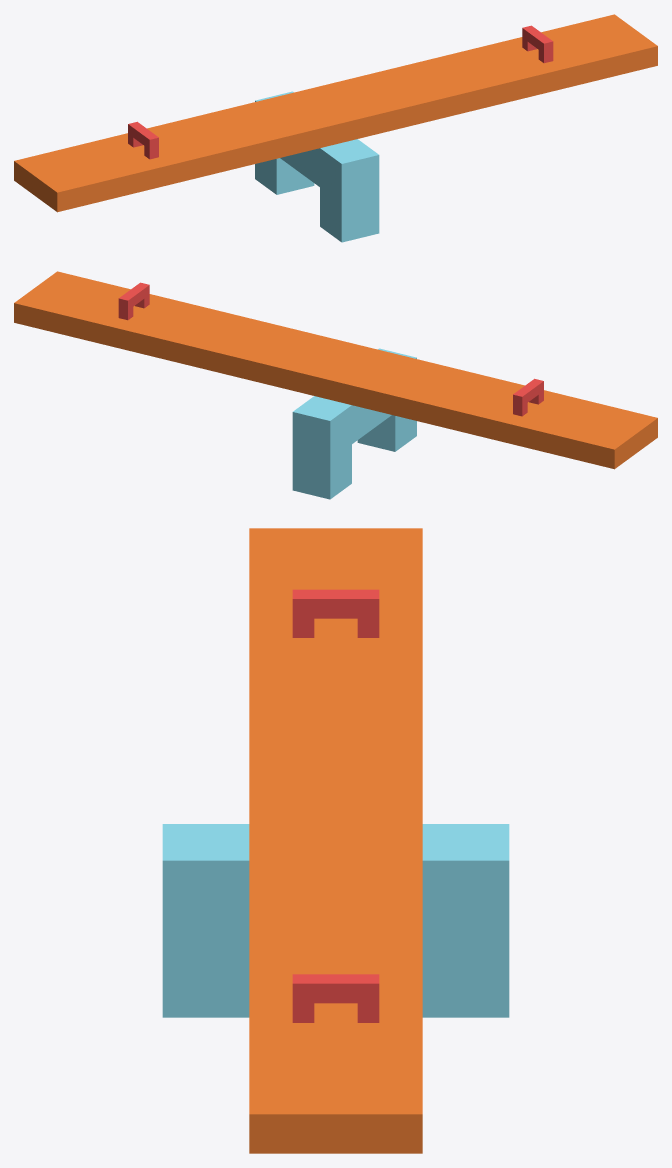
File: outsideTeeter.fbx
The picture shows the model from 3 angles, top to bottom: view 1: azimuth 30°, elevation 25°; view 2: azimuth 150°, elevation 25°; view 3: azimuth 270°, elevation 25°; orthographic projection. The views are drawn at different scales.
Parts seen in each view (by area): view 1: default; view 2: default; view 3: default.
Boxes of the visible parts, x1,y1,x2,y2 form: default: (14,14,657,242); default: (14,271,657,499); default: (162,528,509,1153).
Size of the model in its own units: 64 by 12 by 16.
